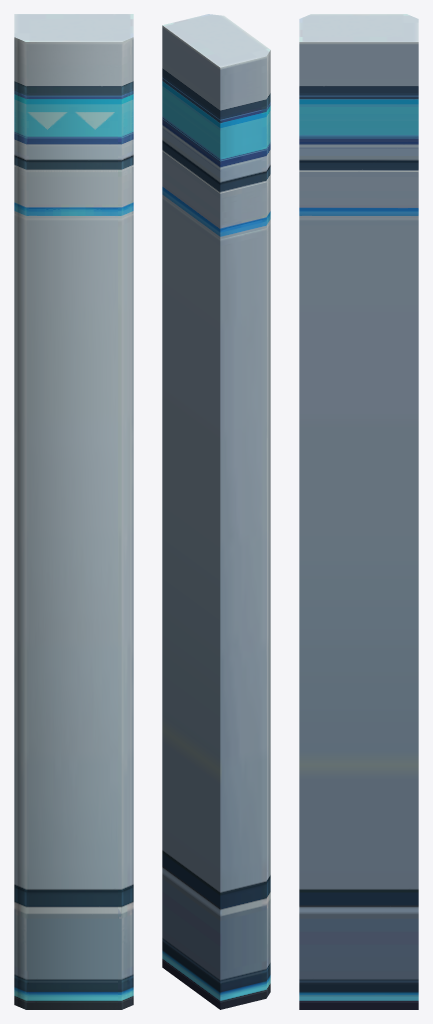
The model's file is my_millenniumlounge_01_wallacc_01.glb.
3 views of the same model, side by side, from view 1: azimuth 90°, elevation 25°; view 2: azimuth 210°, elevation 25°; view 3: azimuth 270°, elevation 25° (orthographic). The views are drawn at different scales.
Parts seen in each view (by area): view 1: my_millenniumlounge_01_wallacc_01; view 2: my_millenniumlounge_01_wallacc_01; view 3: my_millenniumlounge_01_wallacc_01.
Boxes of the visible parts, x1,y1,x2,y2 form: my_millenniumlounge_01_wallacc_01: (14, 14, 133, 1009); my_millenniumlounge_01_wallacc_01: (162, 14, 270, 1009); my_millenniumlounge_01_wallacc_01: (299, 14, 418, 1009).
Bounding box in the file's own units: 0.00282 × 0.0451 × 0.00504.
2 materials, 2 textured.
